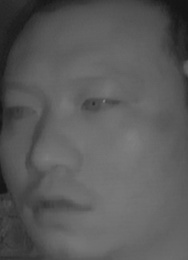eye: (79, 90, 122, 116), (3, 100, 38, 123)
mouth: (23, 184, 91, 226)
